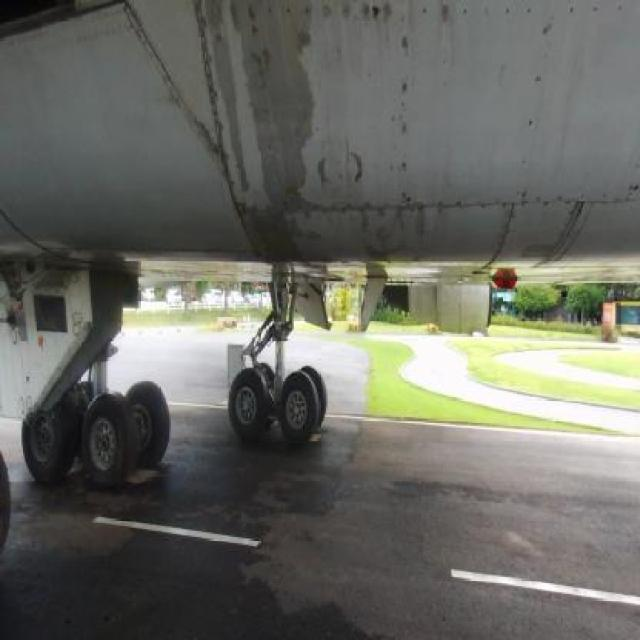Missing-Rivet: (426, 0, 632, 32), (516, 20, 553, 198), (391, 8, 424, 201), (304, 197, 496, 226), (254, 1, 388, 34), (498, 193, 597, 216)
Scartch: (191, 0, 329, 269), (328, 200, 434, 262), (337, 1, 405, 45), (312, 141, 368, 190), (435, 1, 459, 38)
